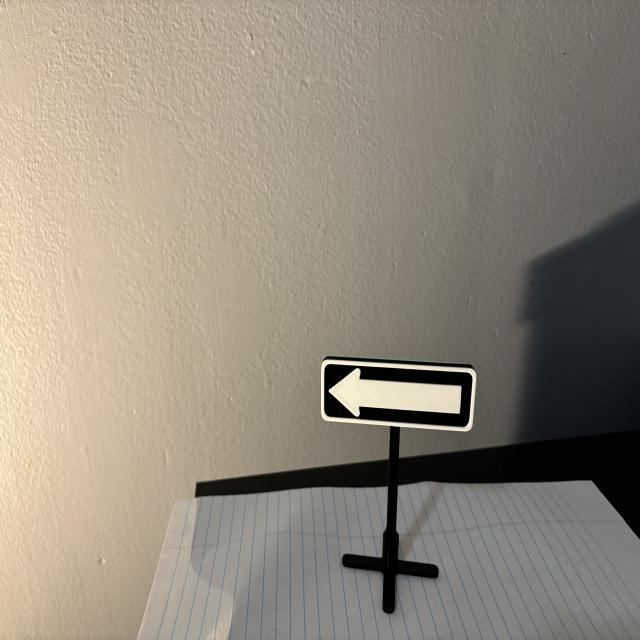sign_oneway_left: (323, 359, 477, 432)
